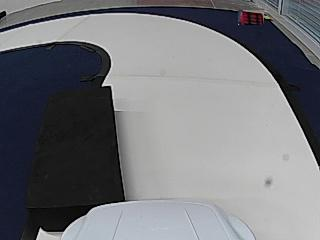block: (33, 91, 125, 212)
